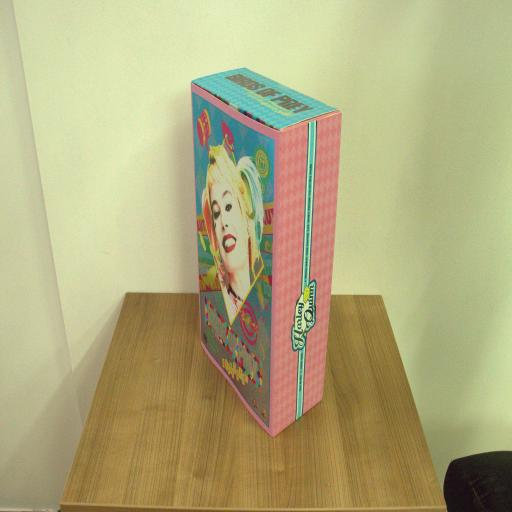Harley: (191, 64, 343, 436)
